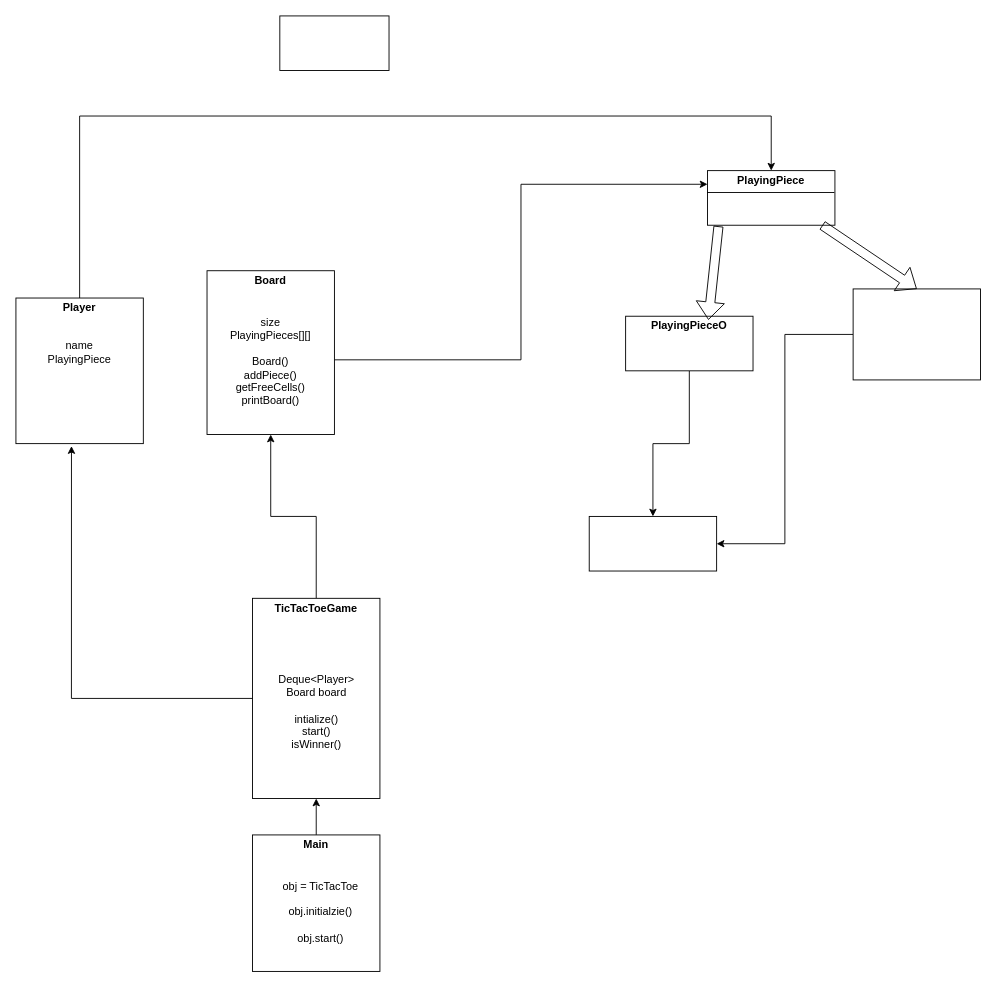
The diagram is 996 pixels wide and 995 high, and some of its shapes have lost their labels. The centre of each missing label's shape, as x and y in pixels:
"ENUM -- Piecetype {X,O}" goes at point (652, 543).
"PlayingPieceX" goes at point (916, 334).
"TIC TAC TOE" goes at point (334, 43).
